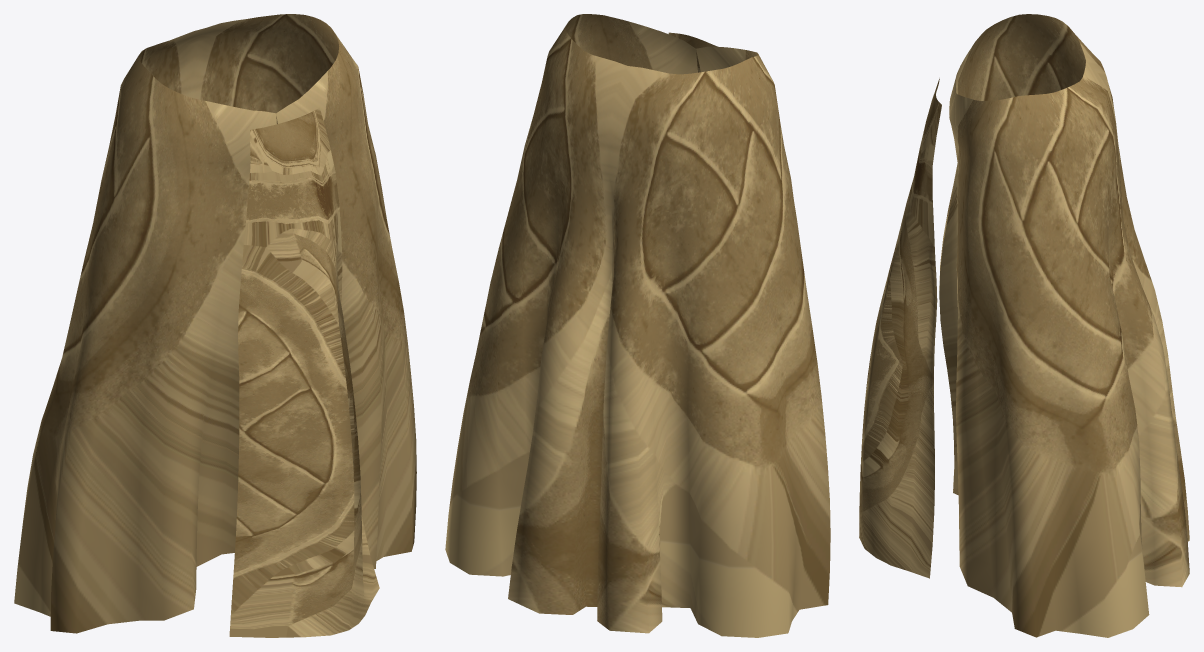
Rendered from clo_rivendell_torso_infantry_tier3_4.fbx.
3 views of the same model, side by side, from view 1: azimuth 30°, elevation 25°; view 2: azimuth 150°, elevation 25°; view 3: azimuth 270°, elevation 25° (orthographic). The views are drawn at different scales.
Visible parts, largest first — view 1: clo_rivendell_torso_infantry_tier3_4; view 2: clo_rivendell_torso_infantry_tier3_4; view 3: clo_rivendell_torso_infantry_tier3_4.
Part boxes in pixels (x1,y1,x2,y2): clo_rivendell_torso_infantry_tier3_4: [14, 14, 416, 637]; clo_rivendell_torso_infantry_tier3_4: [445, 14, 830, 637]; clo_rivendell_torso_infantry_tier3_4: [859, 14, 1189, 637].
Size of the model in its own units: 0.6018 by 0.5129 by 0.8752.
1 material, 1 textured.
